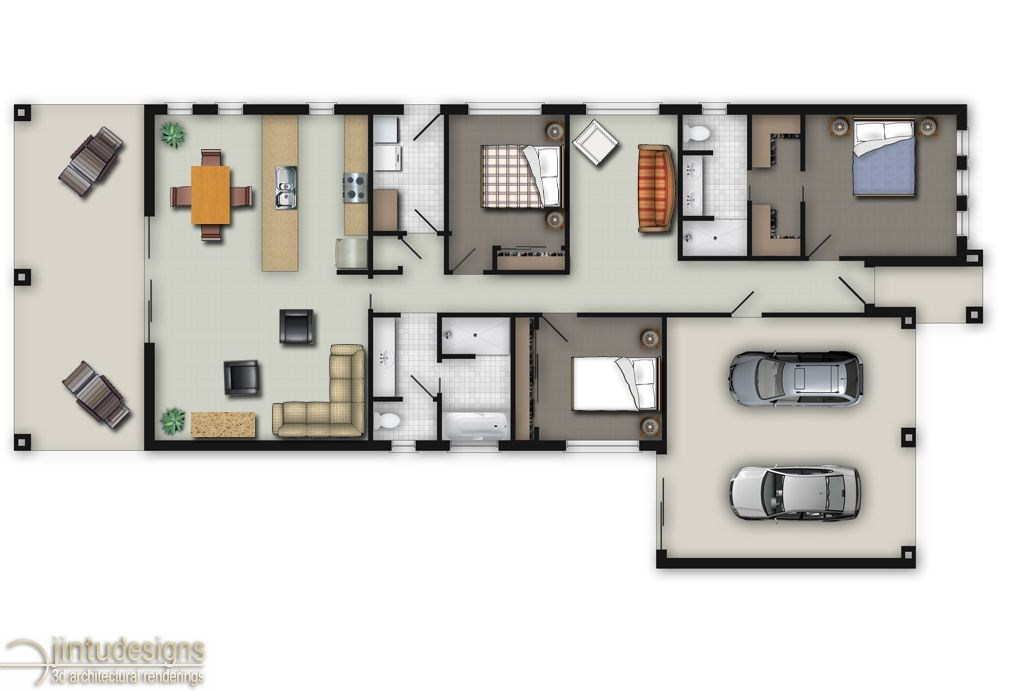room: (143, 104, 373, 451), (800, 103, 968, 262), (443, 103, 570, 276), (510, 313, 667, 450), (368, 314, 515, 451)
